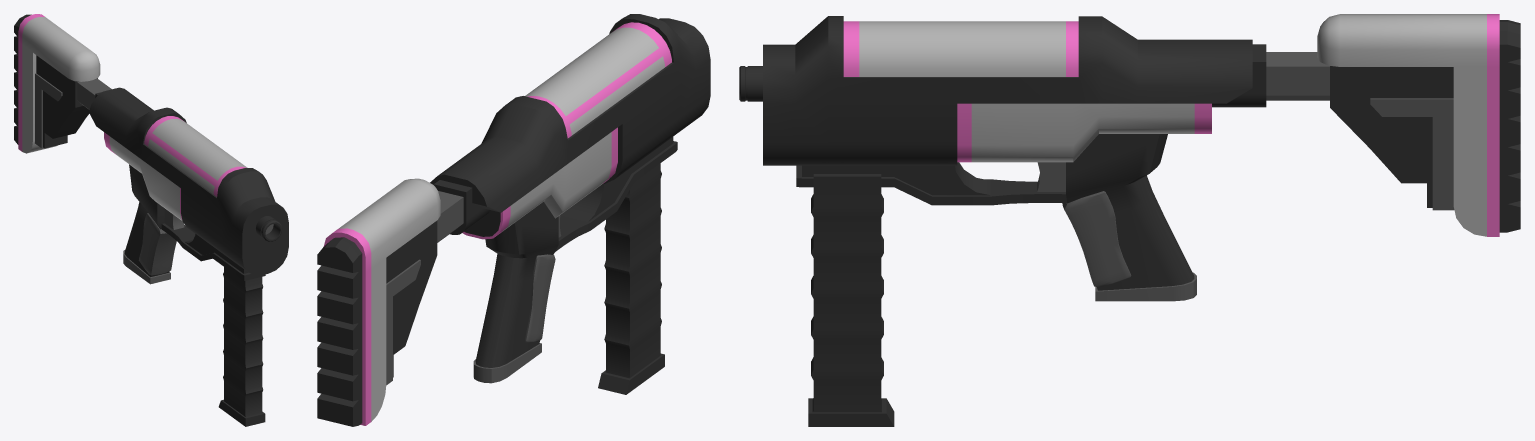
The model's file is goo_gun.glb.
3 renders of one model, left to right at view 1: azimuth 30°, elevation 25°; view 2: azimuth 150°, elevation 25°; view 3: azimuth 270°, elevation 25°, orthographic. The views are drawn at different scales.
Visible parts, largest first — view 1: Cube.084, Cube.221; view 2: Cube.084, Cube.221; view 3: Cube.084, Cube.221.
Part boxes in pixels (x1,y1,x2,y2): Cube.084: (14,14,288,284); Cube.221: (218,267,265,426); Cube.084: (317,14,710,426); Cube.221: (598,163,664,394); Cube.084: (739,14,1520,301); Cube.221: (808,174,894,426).
Bounding box in the file's own units: 0.0543 × 0.2813 × 0.5.
